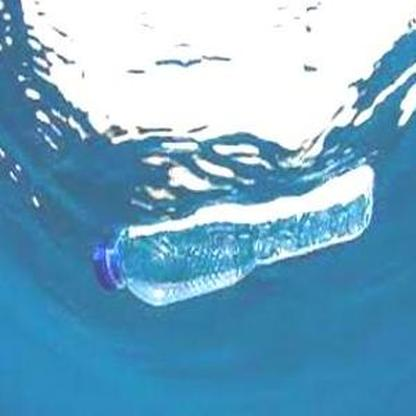plastic bottle: (91, 163, 374, 307)
